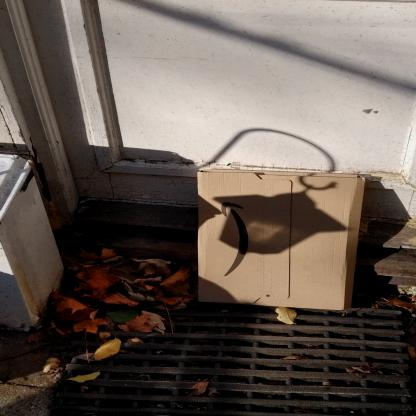box: (194, 169, 367, 314)
